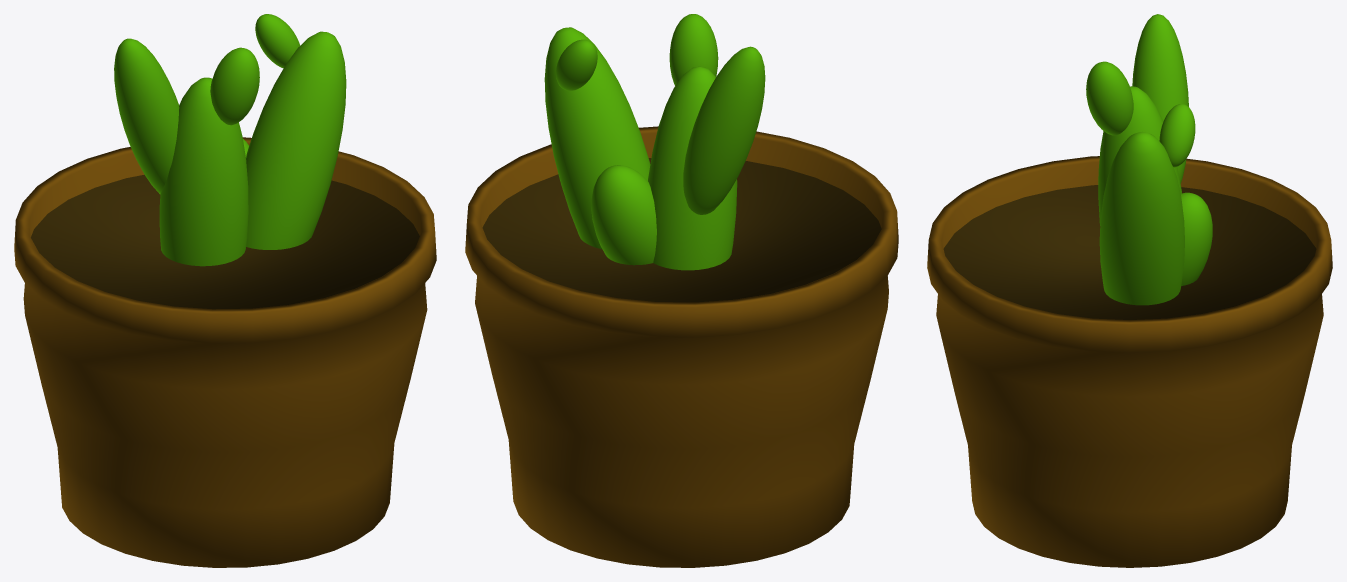
File: plant-00001.glb
The picture shows the model from 3 angles, left to right: view 1: azimuth 30°, elevation 25°; view 2: azimuth 150°, elevation 25°; view 3: azimuth 270°, elevation 25°; orthographic projection. The views are drawn at different scales.
Visible parts, largest first — view 1: Sphere.006; view 2: Sphere.006; view 3: Sphere.006.
Boxes of the visible parts, x1,y1,x2,y2 form: Sphere.006: [14, 14, 436, 567]; Sphere.006: [465, 14, 898, 567]; Sphere.006: [927, 14, 1332, 567].
Size of the model in its own units: 0.3018 by 0.3678 by 0.3018.
